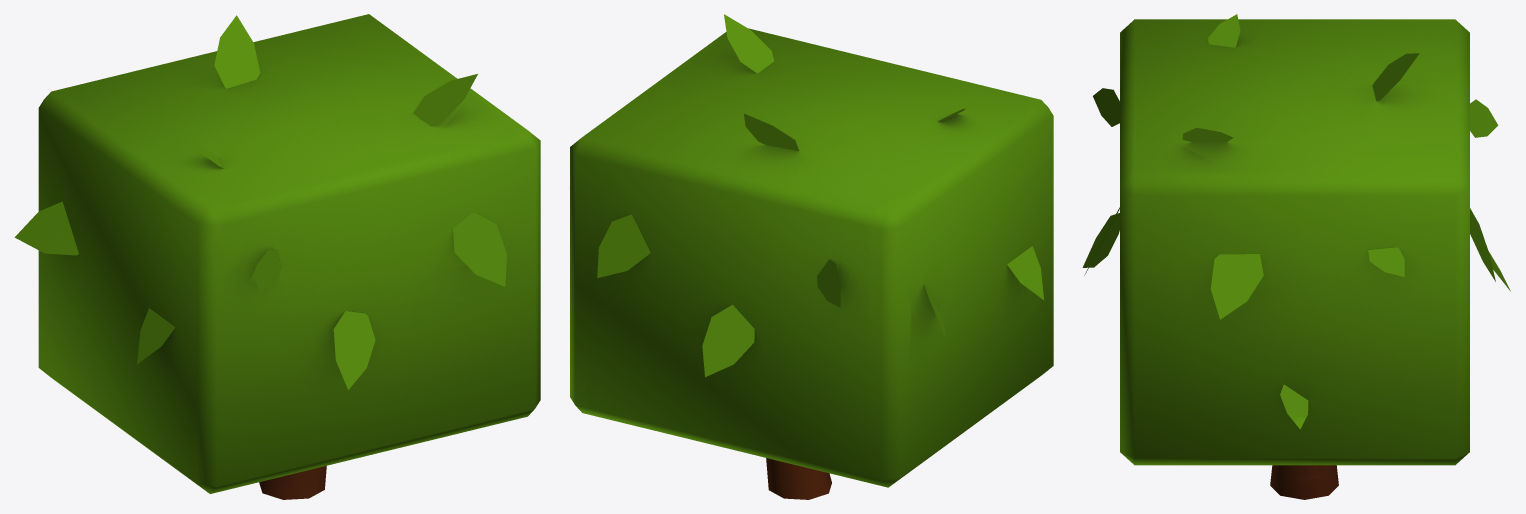
File: Obj_bush.fbx
3 views of the same model, side by side, from view 1: azimuth 30°, elevation 25°; view 2: azimuth 150°, elevation 25°; view 3: azimuth 270°, elevation 25° (orthographic). The views are drawn at different scales.
Parts seen in each view (by area): view 1: Obj_bush; view 2: Obj_bush; view 3: Obj_bush.
Part boxes in pixels (box(x1,y1,x2,y2)): Obj_bush: box(14, 14, 540, 499); Obj_bush: box(570, 14, 1053, 499); Obj_bush: box(1082, 14, 1510, 499).
Size of the model in its own units: 155 by 152 by 137.
